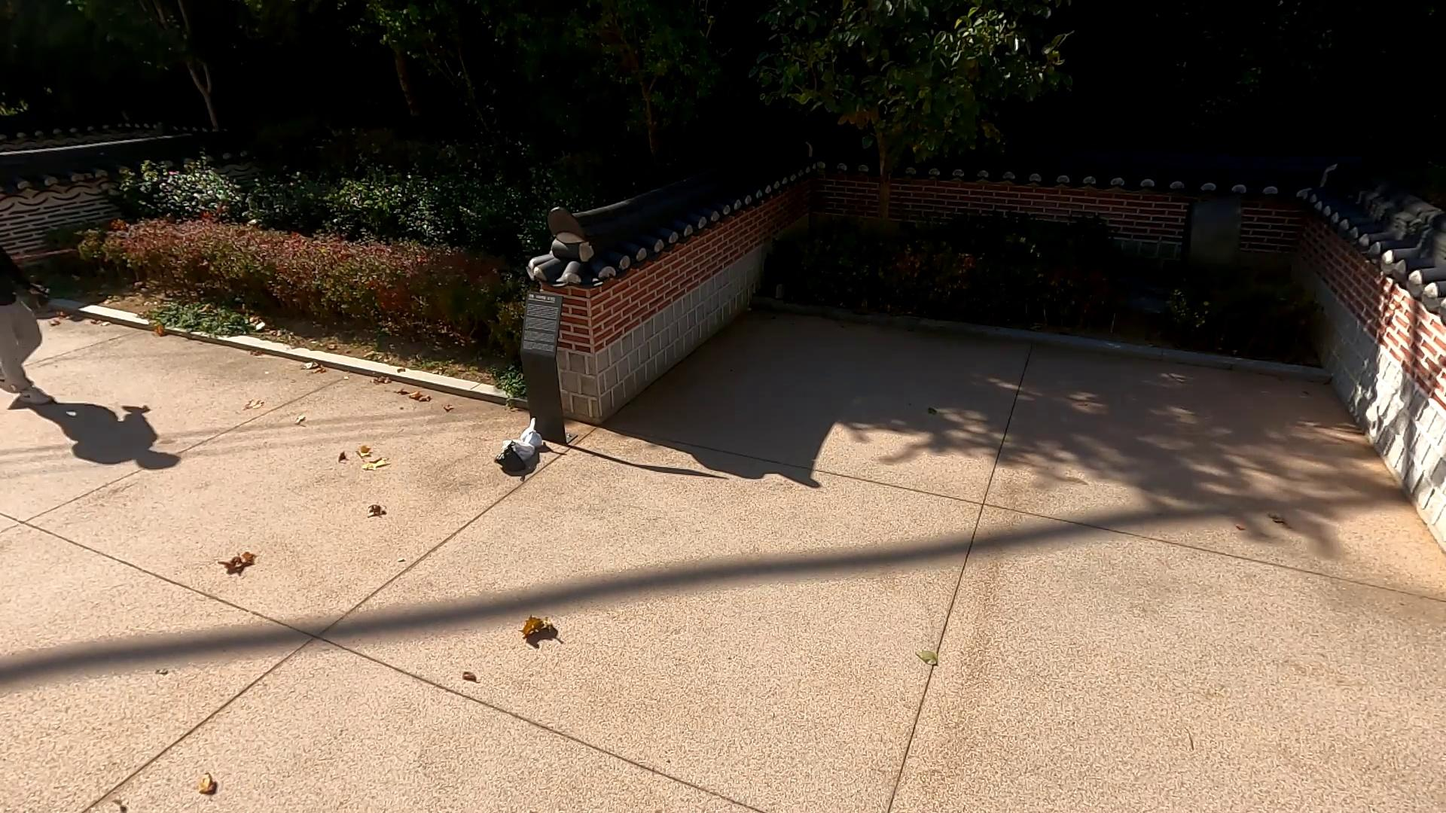trash: (495, 441, 531, 474), (516, 421, 547, 450), (503, 438, 536, 460)
